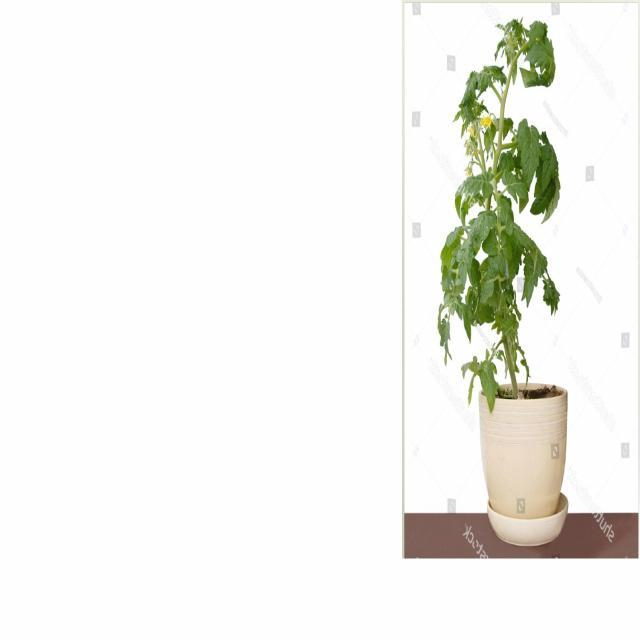tomato: (437, 18, 566, 414)
